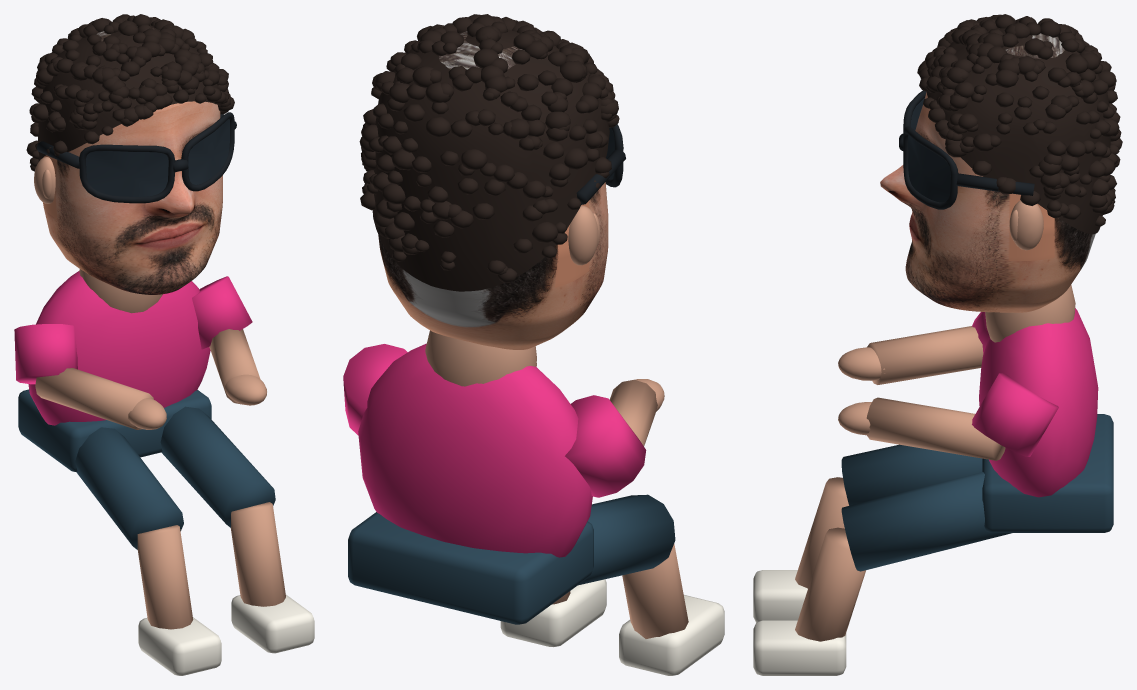
The model's file is driver-low.glb.
3 renders of one model, left to right at view 1: azimuth 30°, elevation 25°; view 2: azimuth 150°, elevation 25°; view 3: azimuth 270°, elevation 25°, orthographic. The views are drawn at different scales.
Visible parts, largest first — view 1: Face, Curls, Bermuda azul Mesh, Remera, Piel cálida Mesh, Marfil Mesh, Cristal oscuro Mesh, Piel cálida Mesh.002, Glasses, Manga, Piel cálida Mesh.003, Manga.001 (+1 smaller); view 2: Curls, Remera, Bermuda azul Mesh, Face, Marfil Mesh, Piel cálida Mesh, Manga, Manga.001, Piel cálida Mesh.002, Piel cálida Mesh.001, Glasses; view 3: Curls, Bermuda azul Mesh, Face, Remera, Piel cálida Mesh, Marfil Mesh, Piel cálida Mesh.003, Piel cálida Mesh.002, Manga.001, Glasses, Cristal oscuro Mesh, Piel cálida Mesh.001.
Boxes of the visible parts, bbox=[...] form: Face: bbox=[43, 26, 222, 294]; Curls: bbox=[26, 14, 234, 171]; Bermuda azul Mesh: bbox=[18, 389, 275, 549]; Remera: bbox=[28, 271, 210, 425]; Piel cálida Mesh: bbox=[79, 269, 285, 629]; Marfil Mesh: bbox=[138, 594, 314, 675]; Cristal oscuro Mesh: bbox=[86, 119, 229, 196]; Piel cálida Mesh.002: bbox=[35, 368, 166, 429]; Glasses: bbox=[36, 112, 236, 203]; Manga: bbox=[14, 324, 77, 384]; Piel cálida Mesh.003: bbox=[209, 329, 266, 405]; Manga.001: bbox=[192, 276, 252, 349]; Curls: bbox=[359, 14, 619, 291]; Remera: bbox=[358, 343, 592, 557]; Bermuda azul Mesh: bbox=[348, 494, 675, 624]; Face: bbox=[378, 31, 608, 349]; Marfil Mesh: bbox=[500, 579, 724, 675]; Piel cálida Mesh: bbox=[425, 330, 688, 638]; Manga: bbox=[565, 395, 646, 497]; Manga.001: bbox=[343, 344, 407, 435]; Piel cálida Mesh.002: bbox=[609, 379, 664, 445]; Piel cálida Mesh.001: bbox=[568, 205, 600, 265]; Glasses: bbox=[576, 124, 625, 204]; Curls: bbox=[917, 14, 1122, 234]; Bermuda azul Mesh: bbox=[841, 414, 1113, 571]; Face: bbox=[880, 33, 1095, 312]; Remera: bbox=[979, 308, 1098, 497]; Piel cálida Mesh: bbox=[795, 285, 1075, 641]; Marfil Mesh: bbox=[753, 570, 846, 675]; Piel cálida Mesh.003: bbox=[838, 397, 1005, 460]; Piel cálida Mesh.002: bbox=[838, 326, 983, 384]; Manga.001: bbox=[972, 373, 1058, 456]; Glasses: bbox=[899, 90, 1034, 209]; Cristal oscuro Mesh: bbox=[908, 98, 950, 202]; Piel cálida Mesh.001: bbox=[1009, 200, 1043, 250].
Size of the model in its own units: 1.24 by 2.85 by 1.55.
Materials: 8 (1 with a texture image).
